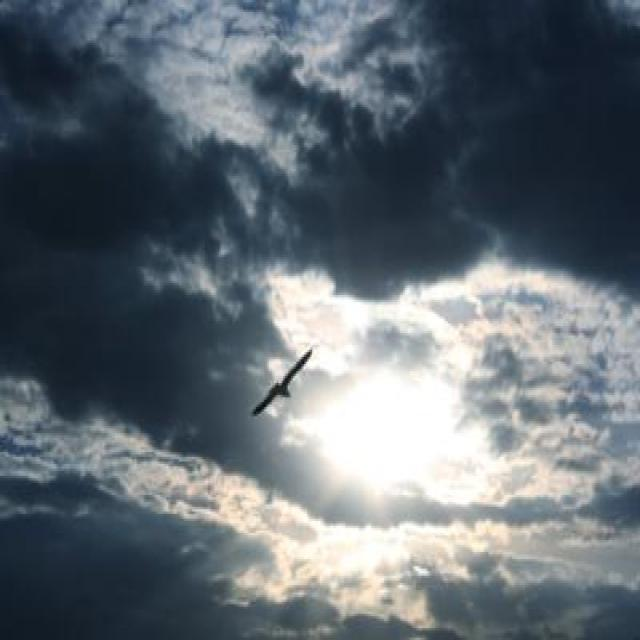birds: (252, 342, 314, 428)
